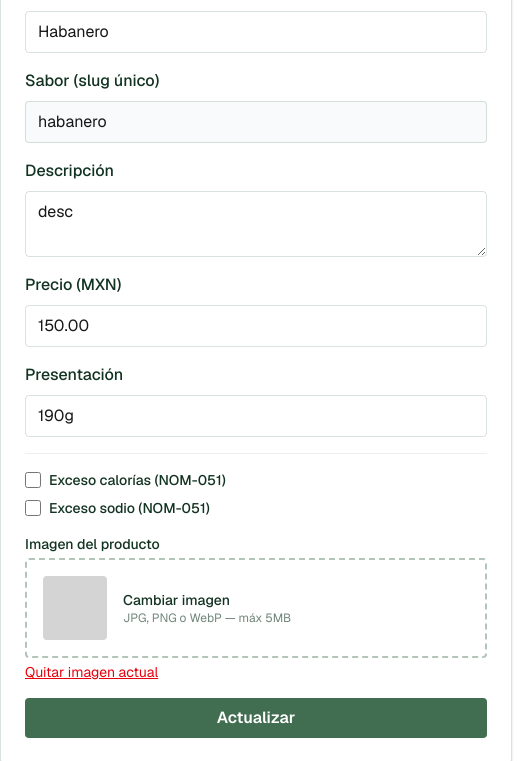
Scenario: ProductForm — avisos tras guardar › sin red → mensaje de red
(page scrolled)
Click the button "Actualizar": (256, 718) [25,698,487,738]
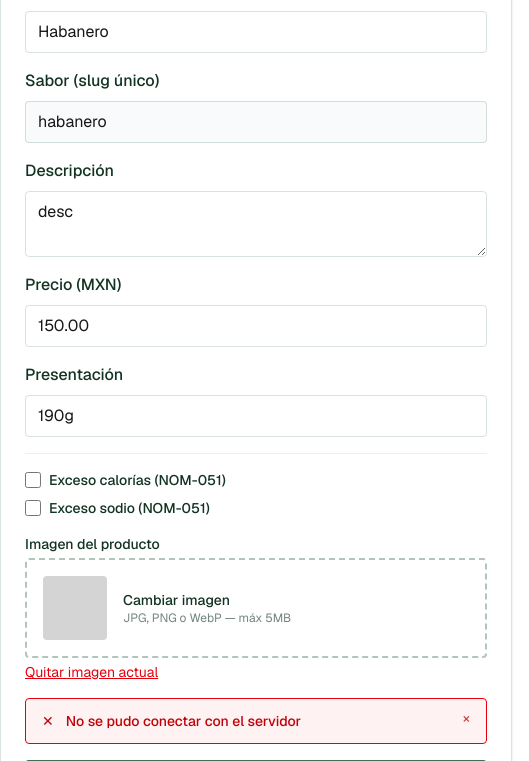
expect the message shows "No se pudo conectar con el servidor": met, box [66,712,301,730]
